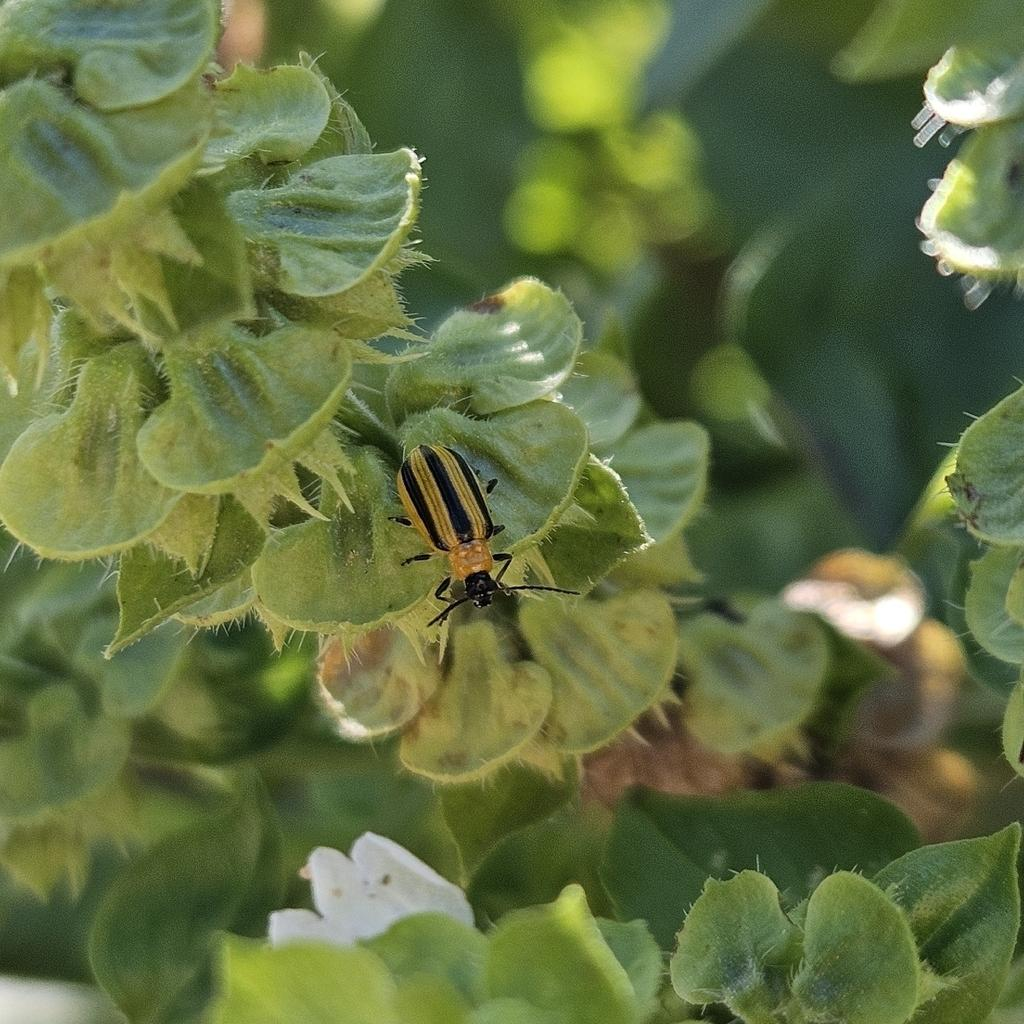potato_beetle: (353, 400, 610, 689)
